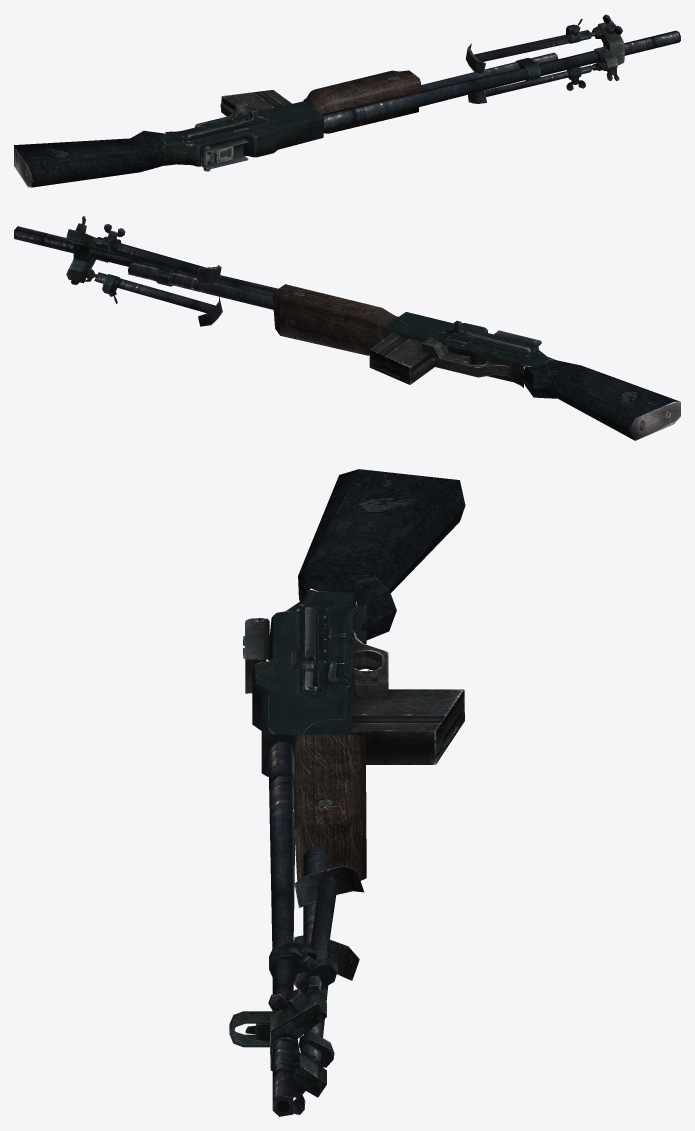
File: weapon_bar.glb
3 renders of one model, top to bottom at view 1: azimuth 30°, elevation 25°; view 2: azimuth 150°, elevation 25°; view 3: azimuth 270°, elevation 25°, orthographic. The views are drawn at different scales.
Bounding box in the file's own units: 48.13 × 5.13 × 7.77.
1 material, 1 textured.
